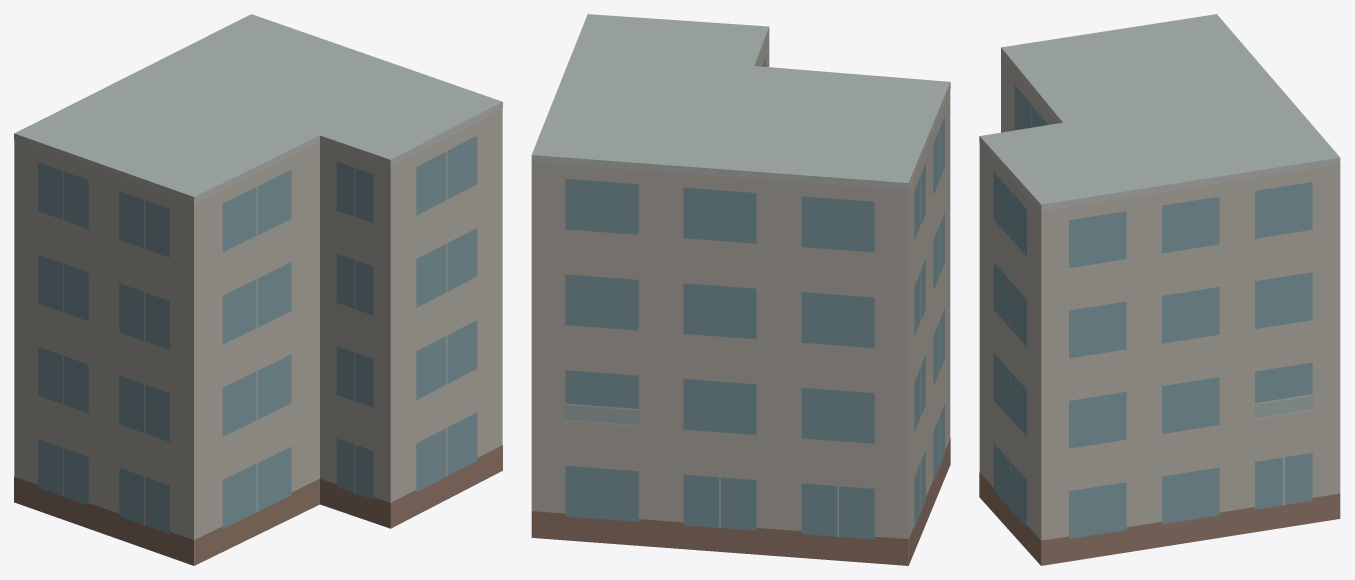
File: survey-upis-32865609.glb
3 views of the same model, side by side, from view 1: azimuth 30°, elevation 25°; view 2: azimuth 150°, elevation 25°; view 3: azimuth 270°, elevation 25° (orthographic). The views are drawn at different scales.
Visible parts, largest first — view 1: survey-upis-32865609.tmp; view 2: survey-upis-32865609.tmp; view 3: survey-upis-32865609.tmp.
Part boxes in pixels (x1,y1,x2,y2): survey-upis-32865609.tmp: (14, 14, 502, 565); survey-upis-32865609.tmp: (531, 14, 950, 565); survey-upis-32865609.tmp: (979, 14, 1340, 565).
Size of the model in its own units: 14.61 by 12.9 by 11.69.
